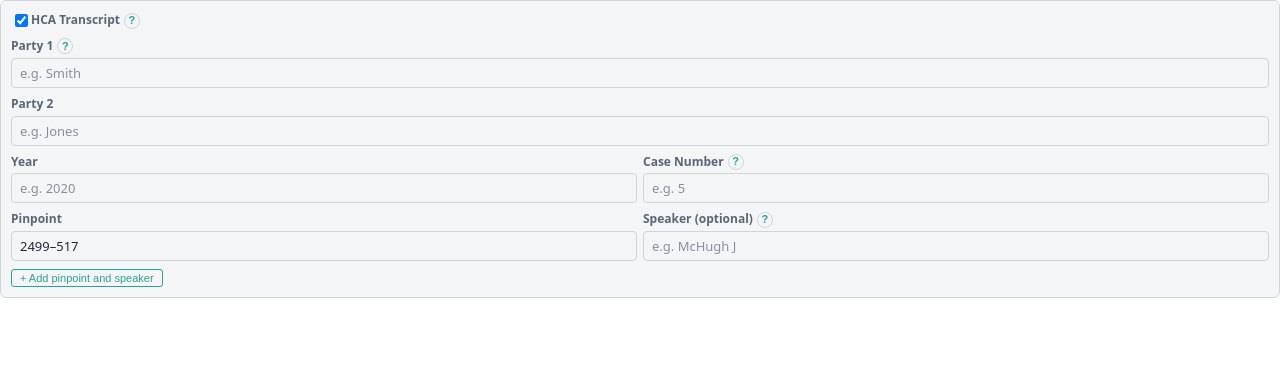
Test: COURT-120: transcript pinpoint + speaker rows (r 2.7.2) › adding a row stores the pinpoints array; removing it returns to one row
Click the button "+ Add pinpoint and speaker" at (87, 278), box top-left (11, 269), bottom-right (163, 287)
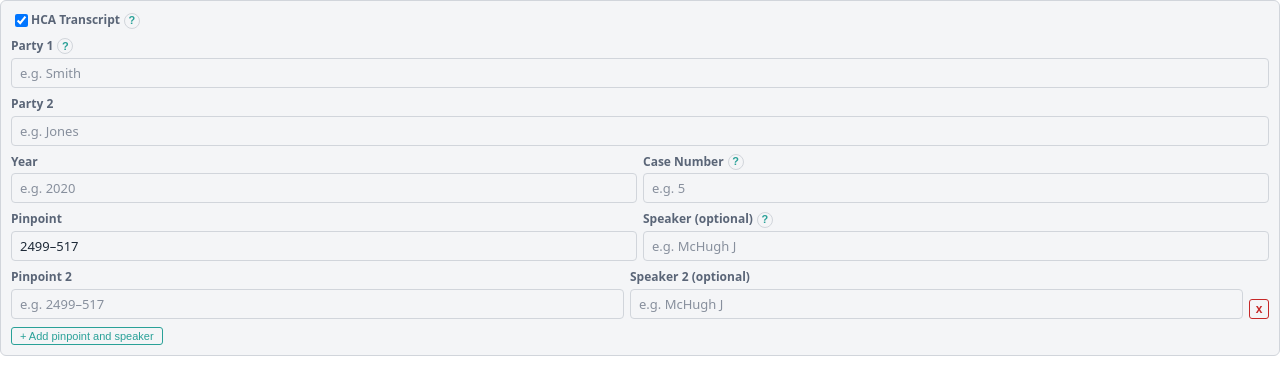
Type "2589–93" into the field labelled "Pinpoint 2" at (318, 304), box top-left (11, 289), bottom-right (624, 319)
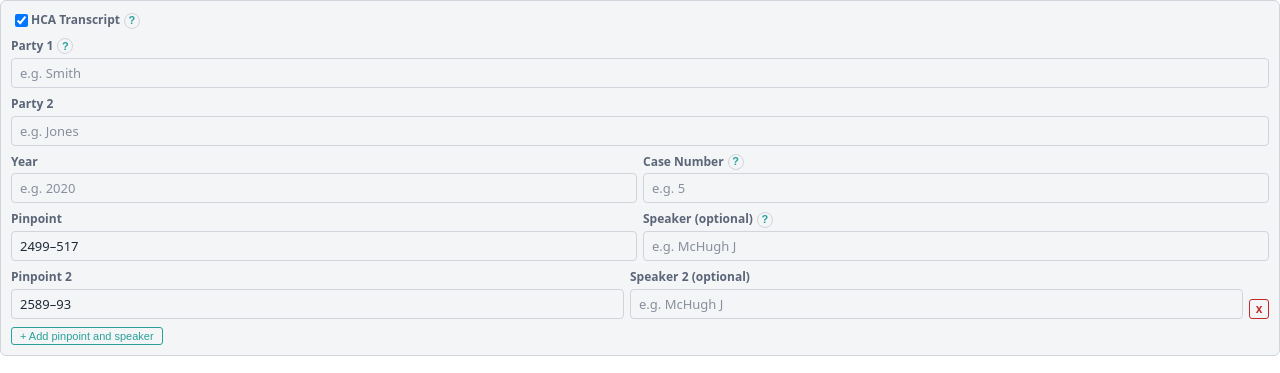
Type "McHugh J" into the field labelled "Speaker 2 (optional)" at (936, 304), box top-left (630, 289), bottom-right (1243, 319)
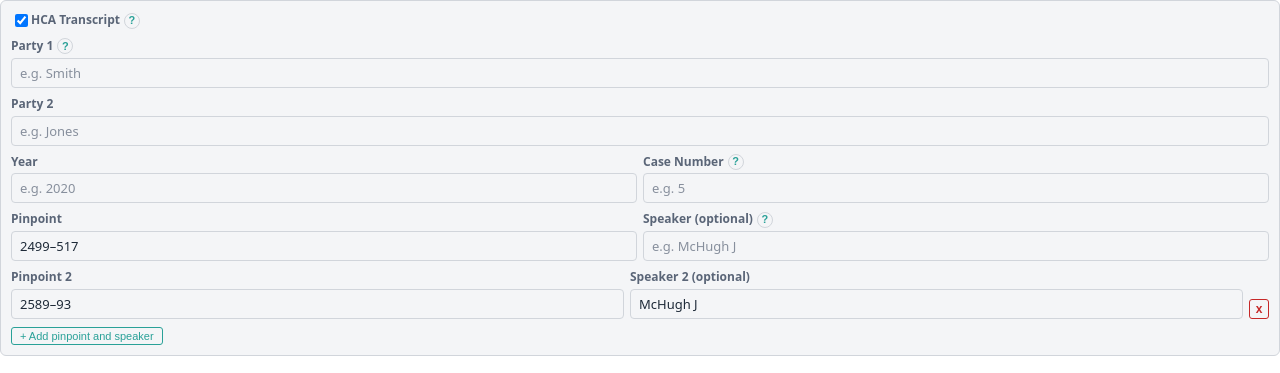
Click the button named "Remove pinpoint 2" at (1259, 309), box top-left (1249, 299), bottom-right (1269, 319)
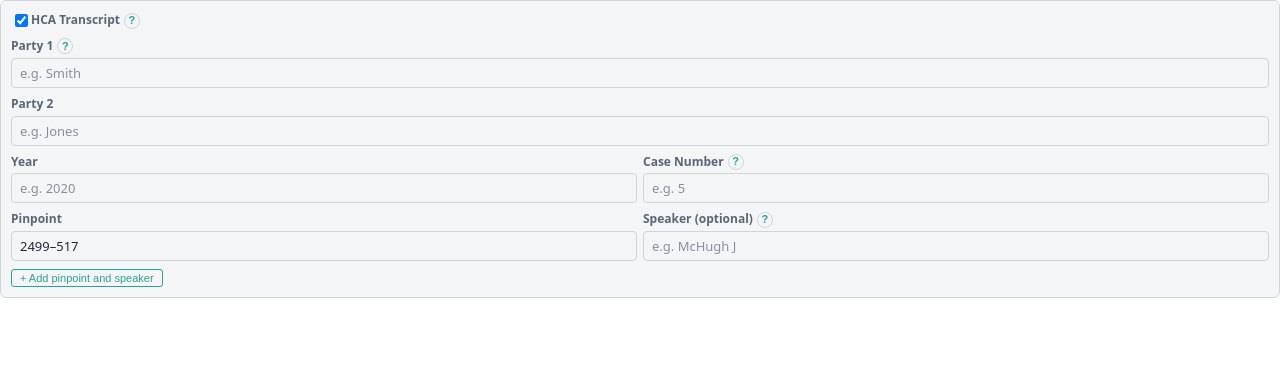
Now the label labelled "Pinpoint 2" is gone
